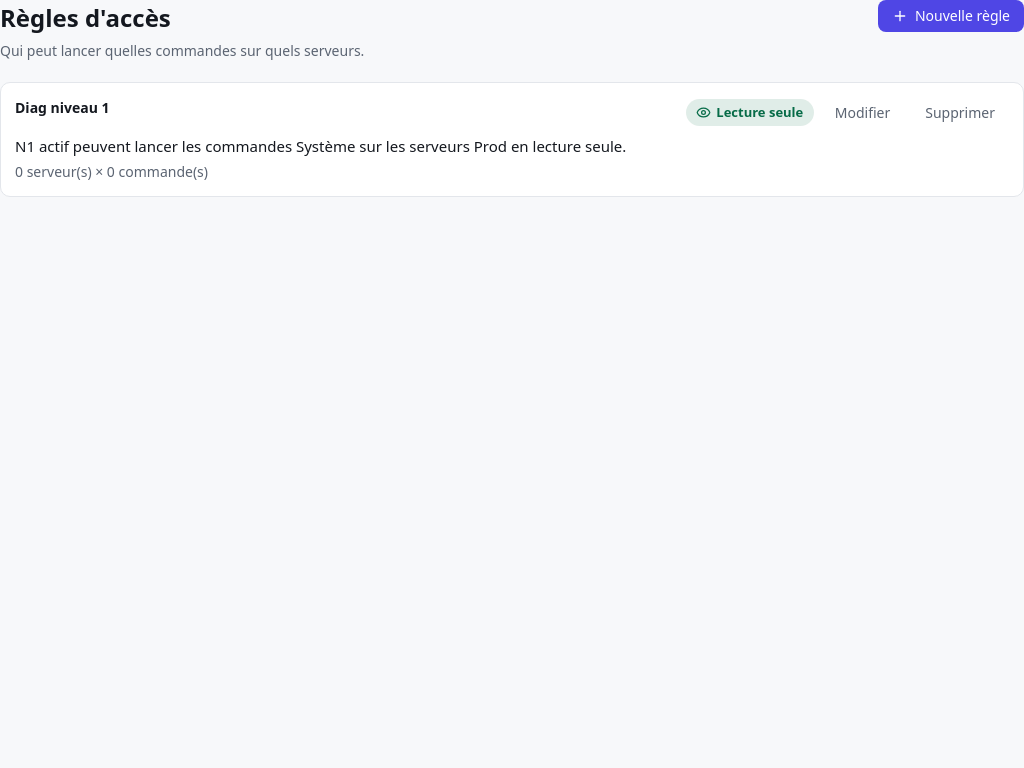
Test: les éléments inactifs ne sont jamais proposés › règle: seules les clés actives sont sélectionnables, et la phrase ne cite pas les inactives
Expected: the element with test id "rule-profile" reads "Lecture seule", [716,102,803,120]
Expected: the text with test id "rule-sentence" shows "N1 actif", [15,136,626,156]
Click the button "Modifier" at (863, 112), box [821,96,904,128]
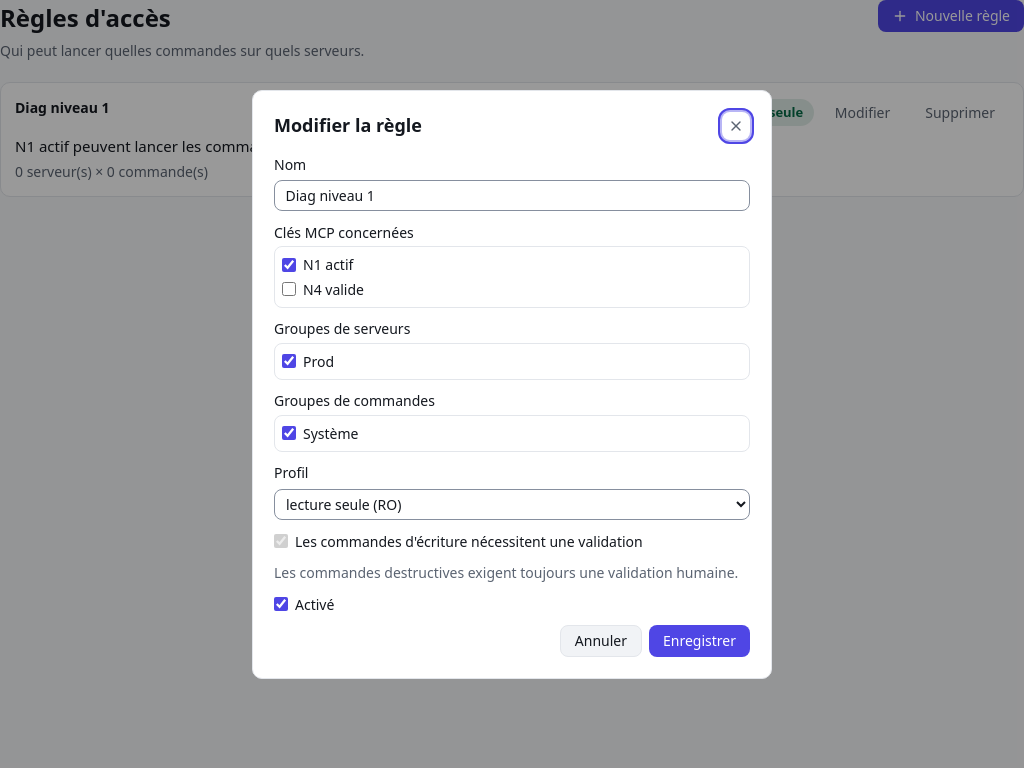
Now the checkbox labelled "N1 actif" is checked, box [282,258,296,272]
Now the checkbox labelled "N4 valide" is shown, box [282,282,296,296]
